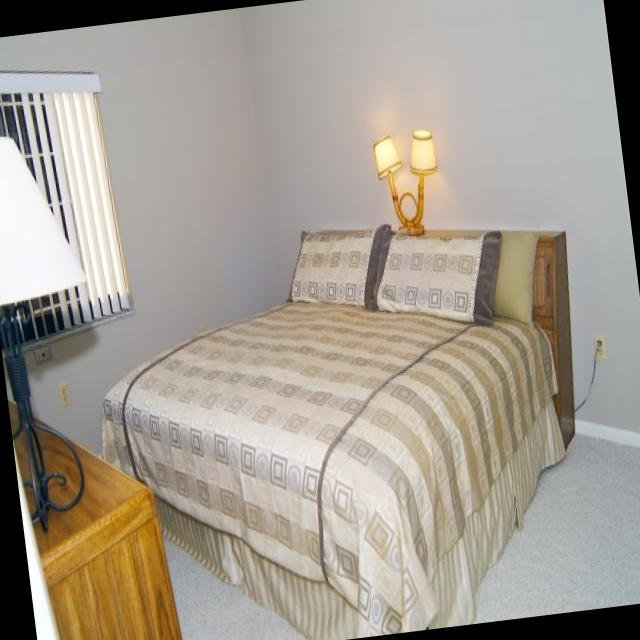2001: (0, 72, 132, 352)
bed -occluded-: (97, 220, 575, 638)
electricity contact: (591, 331, 603, 357)
lamp crop: (0, 135, 87, 519), (373, 128, 434, 231)
pillow occluded: (376, 227, 496, 321)
wall clock: (239, 0, 640, 448)
